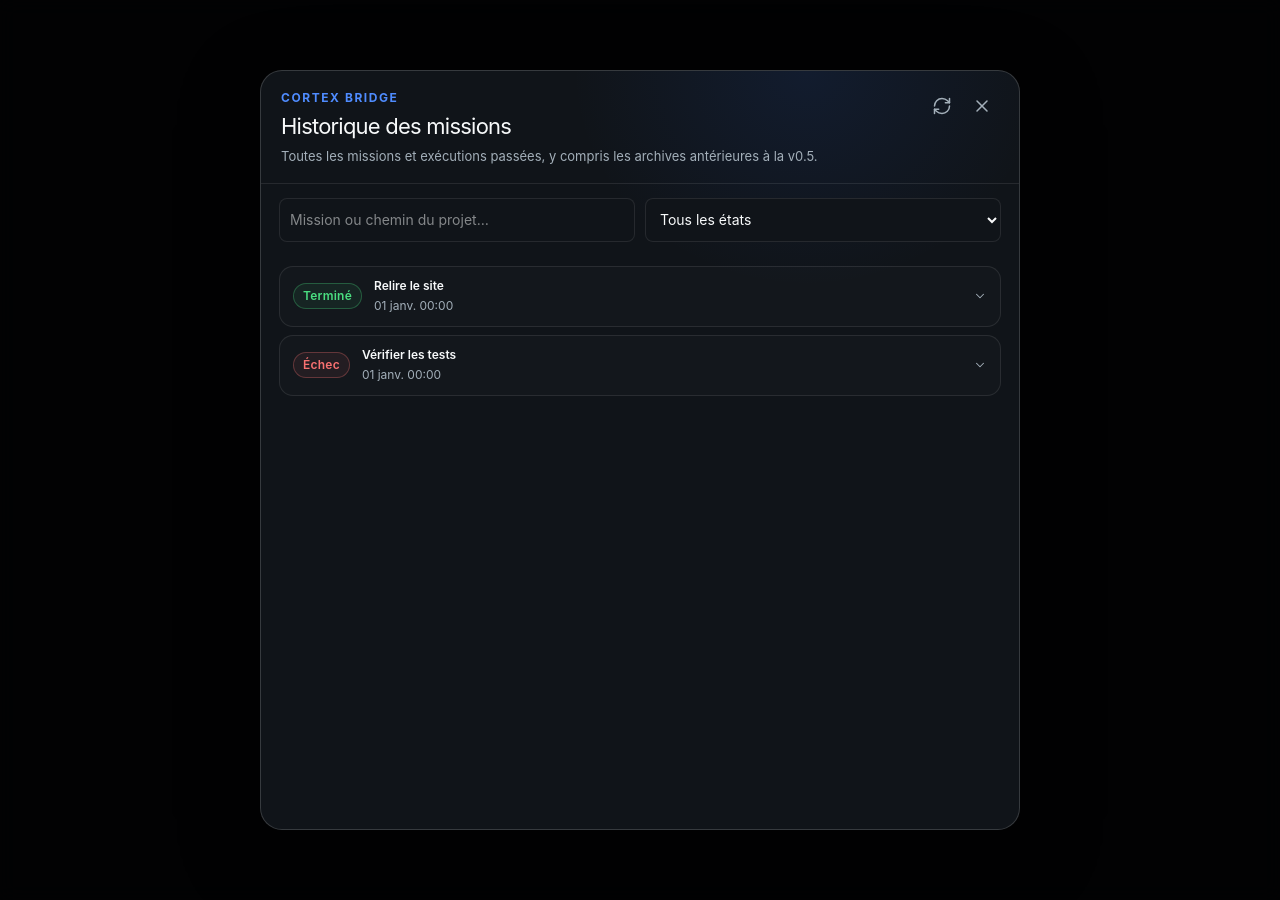
Test case: ends detail loading when fetching a mission fails
Click the text "Relire le site". click: (409, 286)
box: x1=374 y1=278 x2=444 y2=293
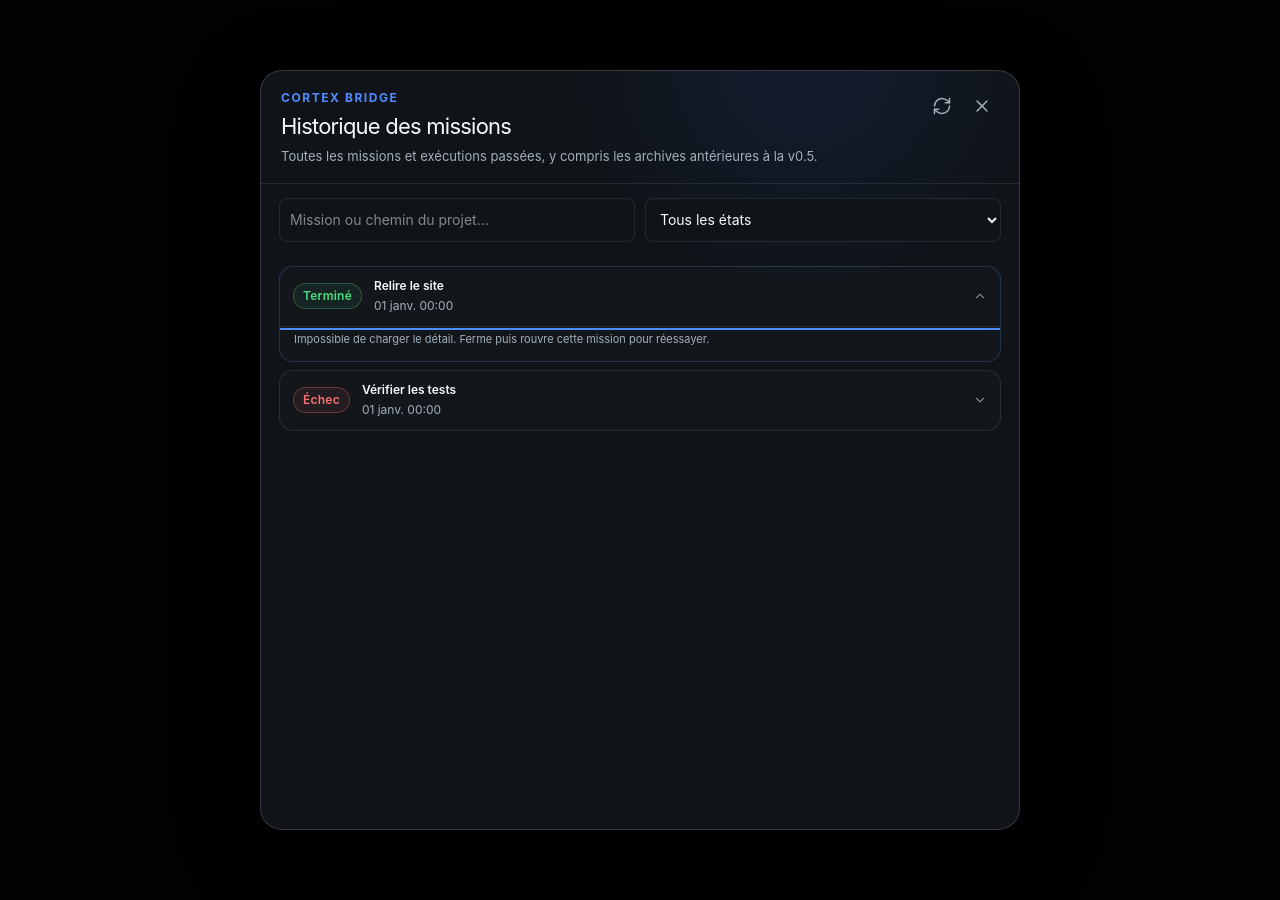
Result: the message shows "Impossible de charger le détail" at x1=294 y1=332 x2=709 y2=346
